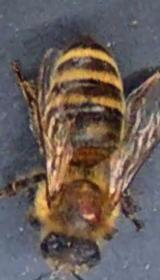varroa_mite: (74, 196, 105, 226)
